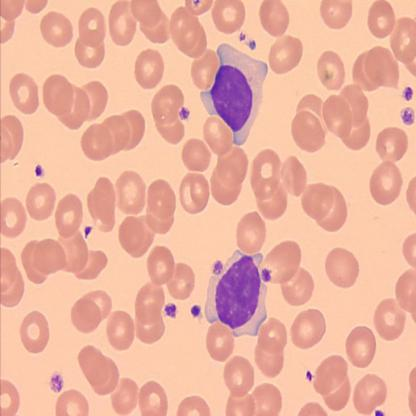Atypical lymphocyte: (200, 47, 270, 147), (208, 248, 272, 335)
